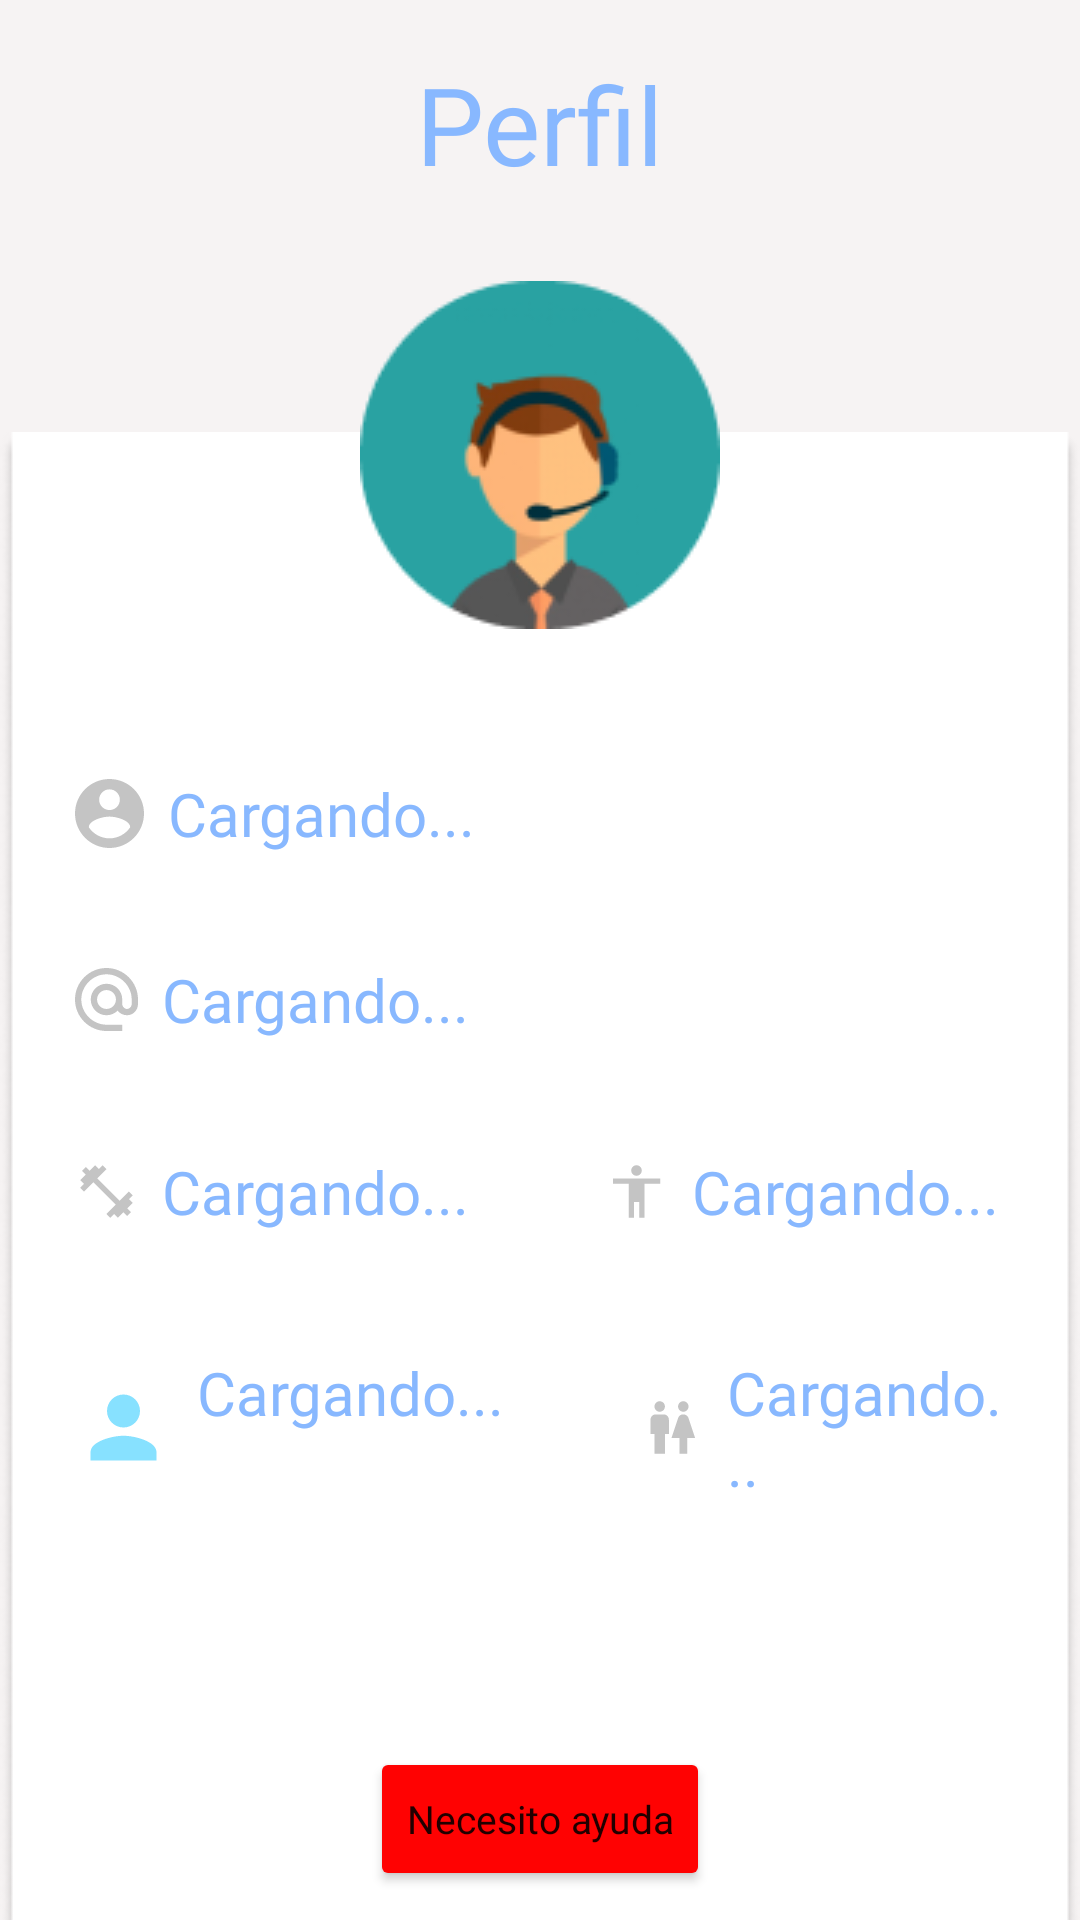

Named icons in this screenshot (1080 x 1920) and their centers, [x,y]:
accessibility: [636,1191]
avatarcallcenter: [540,455]
fitness center: [106,1191]
